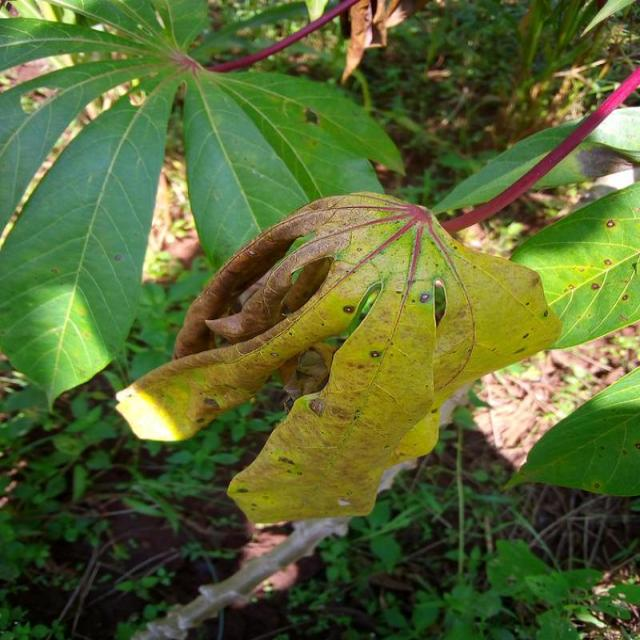cassava leaf: (114, 189, 560, 526), (0, 70, 178, 411), (182, 63, 406, 275), (507, 179, 639, 351), (502, 364, 640, 498)
